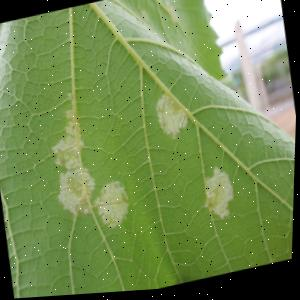Folha: (0, 0, 300, 300)
Fungo: (42, 95, 136, 240), (53, 158, 101, 219), (45, 105, 87, 167), (90, 177, 134, 232), (200, 164, 239, 225), (153, 89, 191, 145)
